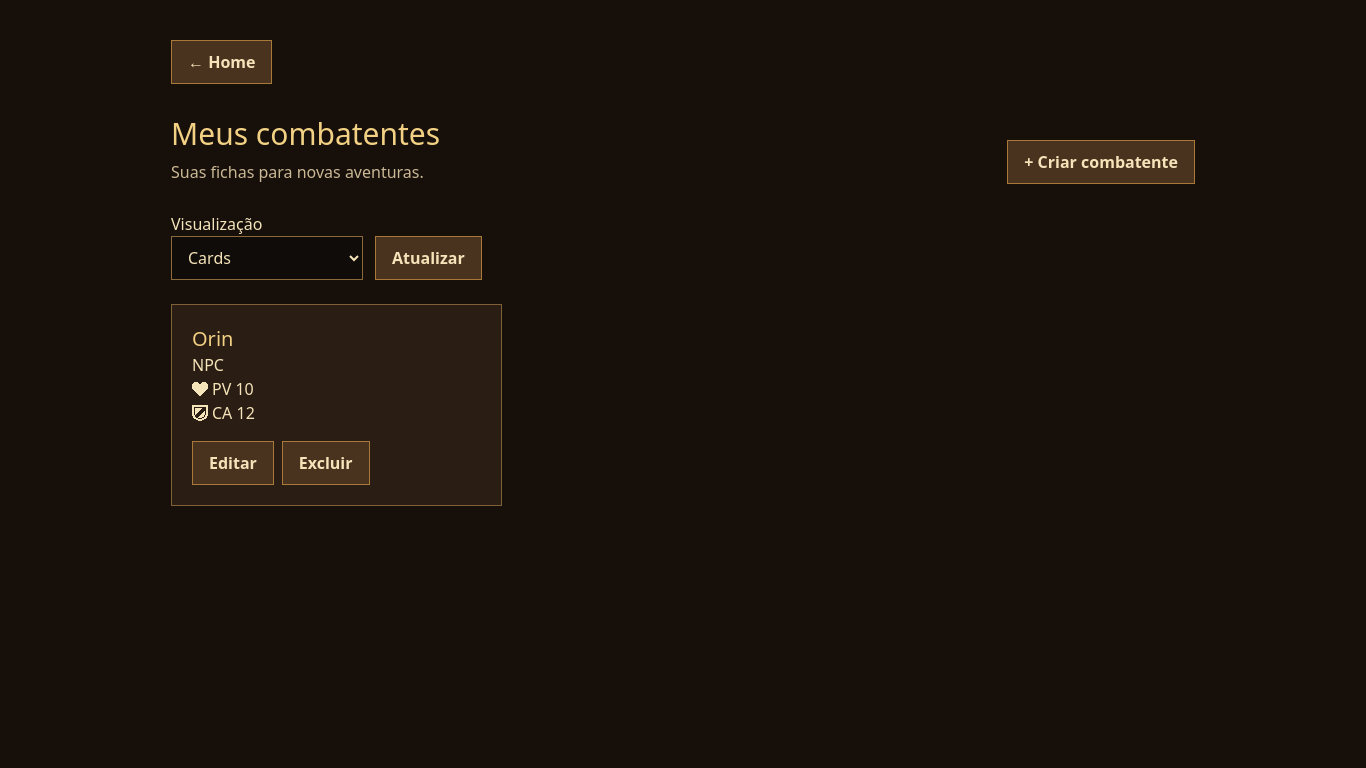
Test case: explains health changes and counts linked combats before deletion
Check: the heading "Orin" is shown, box [192,325,233,352]
Click the button "Editar" at (233, 463), box [192,441,274,485]
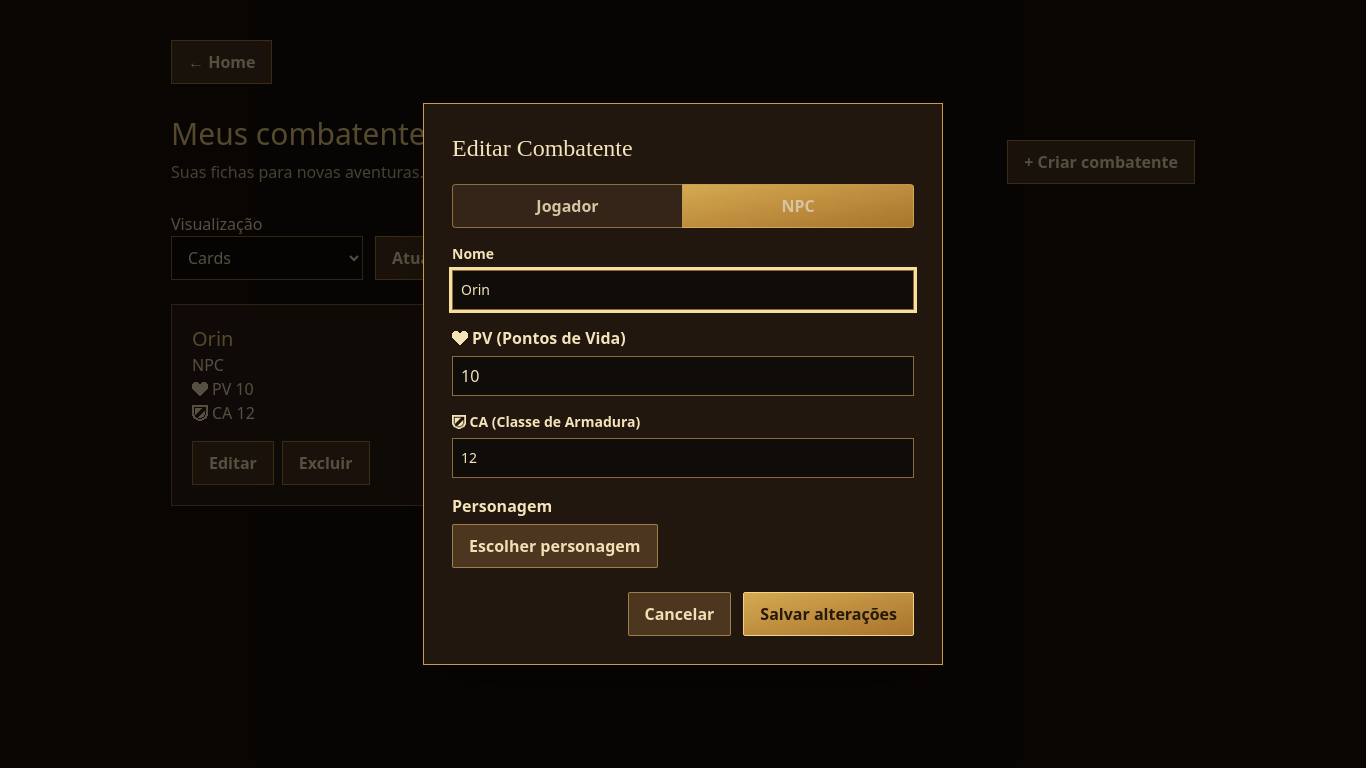
Replace the text in the number field named "vida máxima" with "8" at (683, 376), box [452,356,914,396]
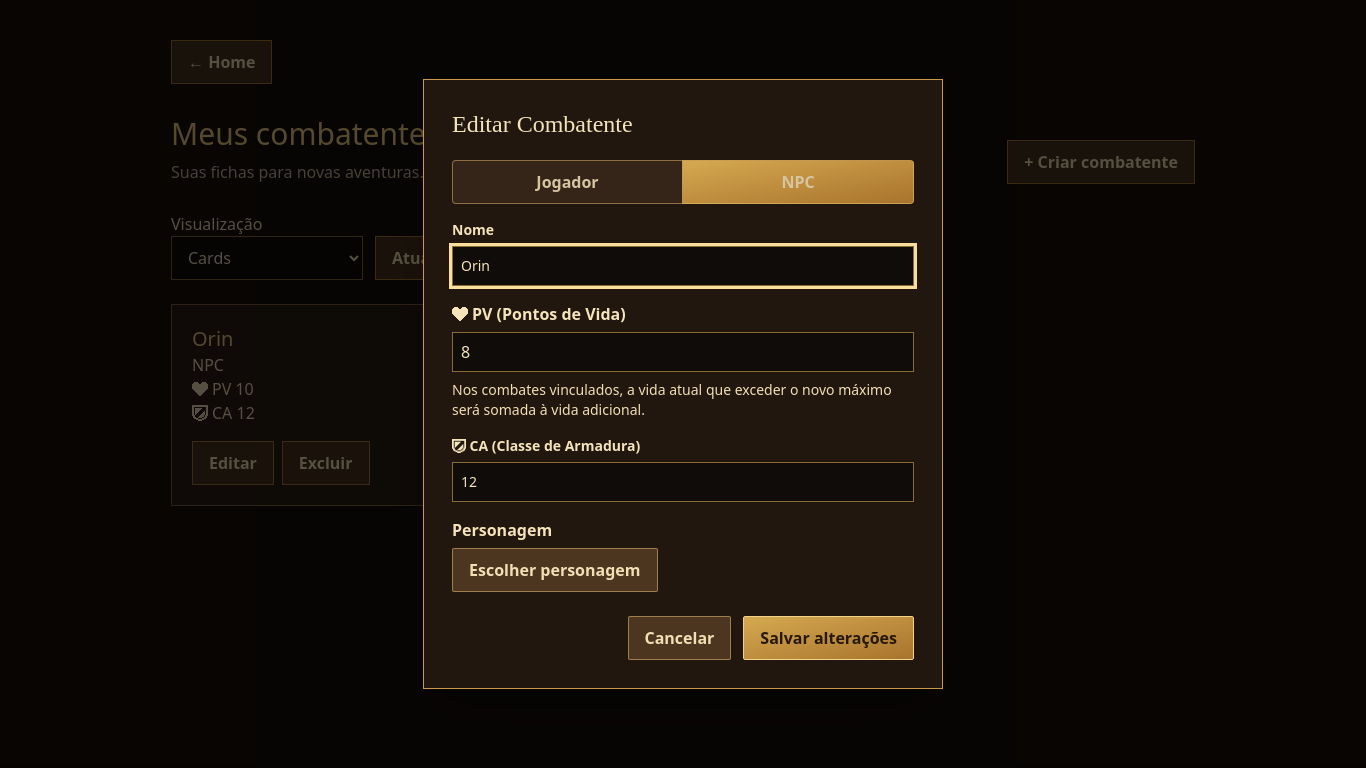
Check: the text "exceder o novo máximo será somada à vida adicional" is shown, box [452,380,892,419]
Click the button "Cancelar" at (679, 638), box [628,616,731,660]
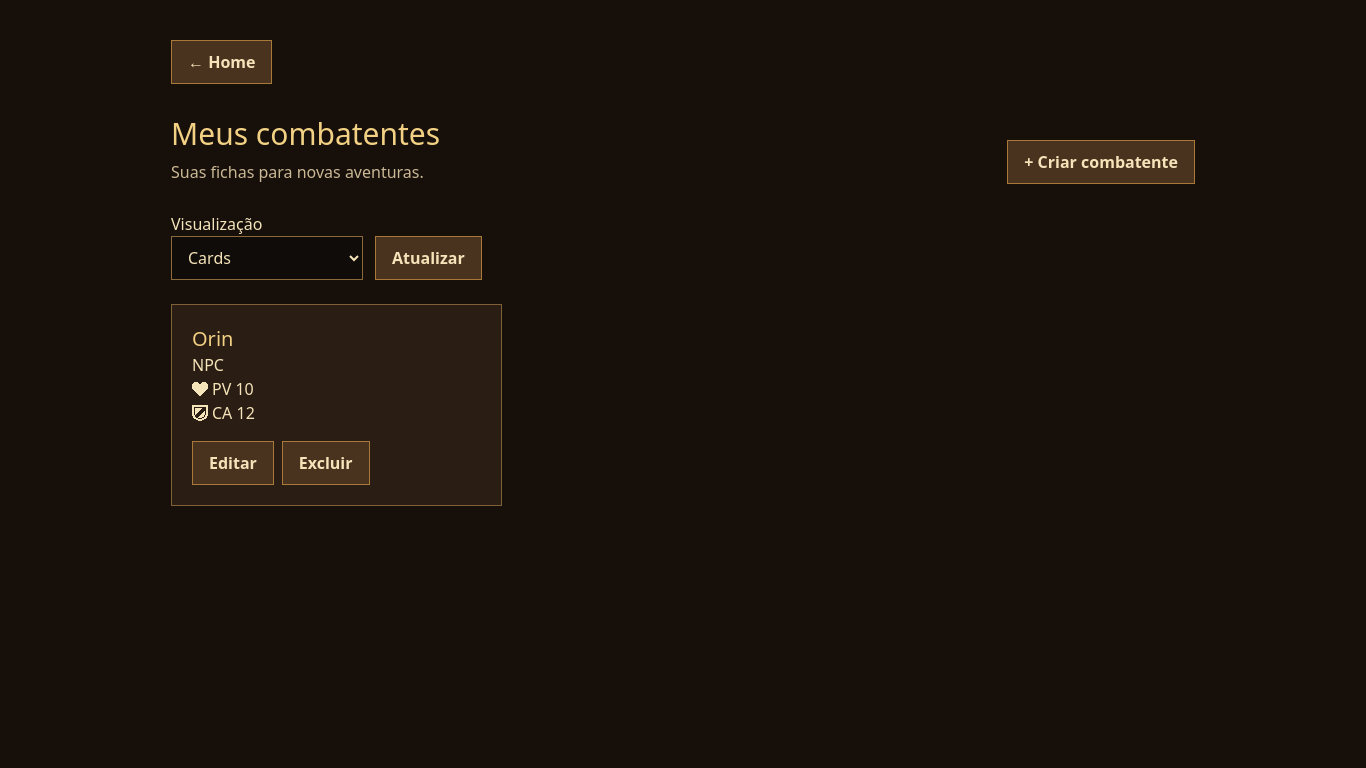
Click the button "Excluir" at (326, 463), box [282,441,370,485]
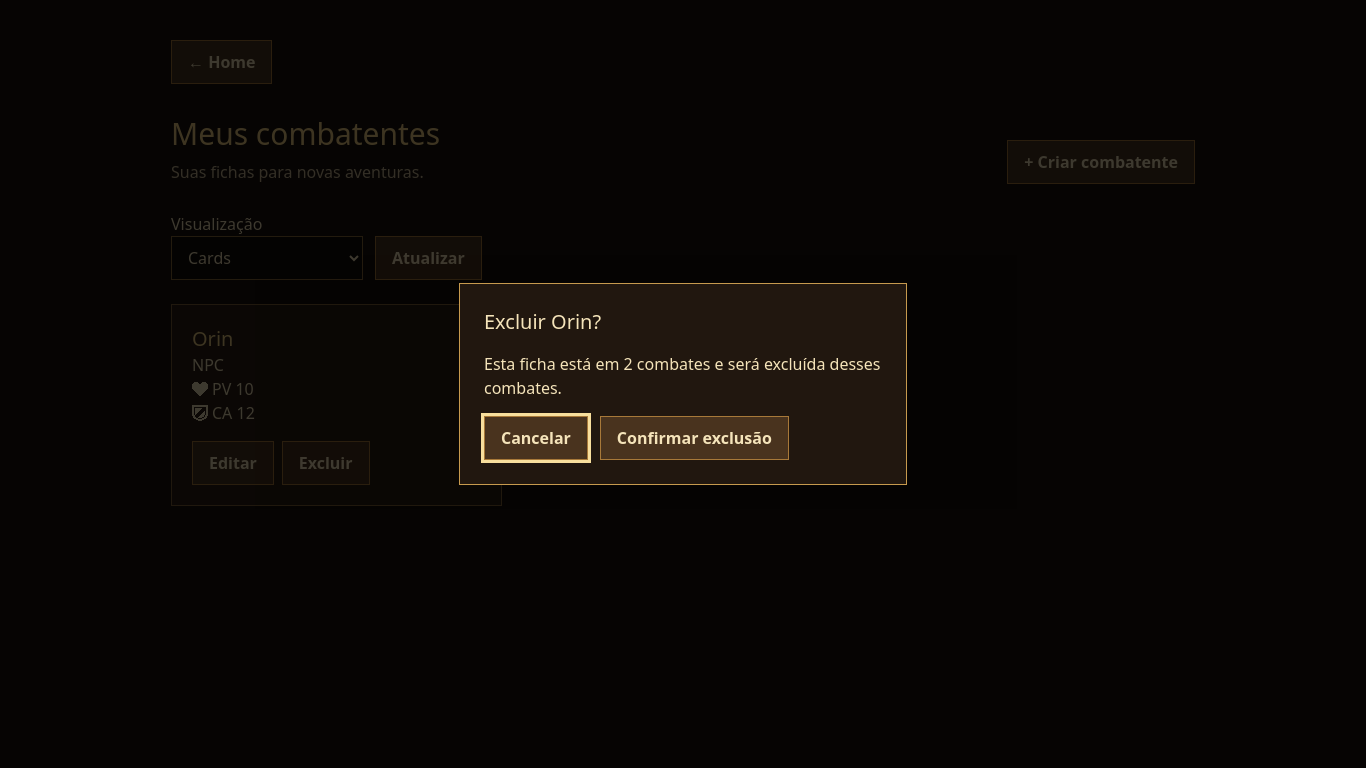
Check: the text "está em 2 combates" is shown, box [484,353,880,399]
